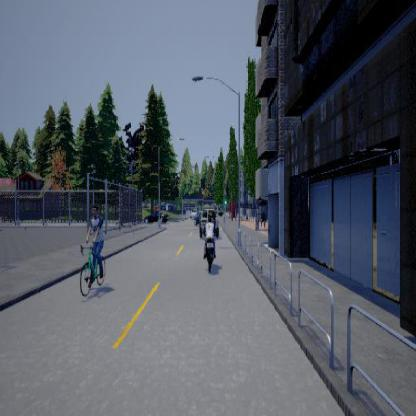bike: (80, 198, 107, 295)
motobike: (202, 216, 217, 270)
traffic_light_green: (224, 192, 226, 204)
vehicle: (190, 206, 218, 237)
